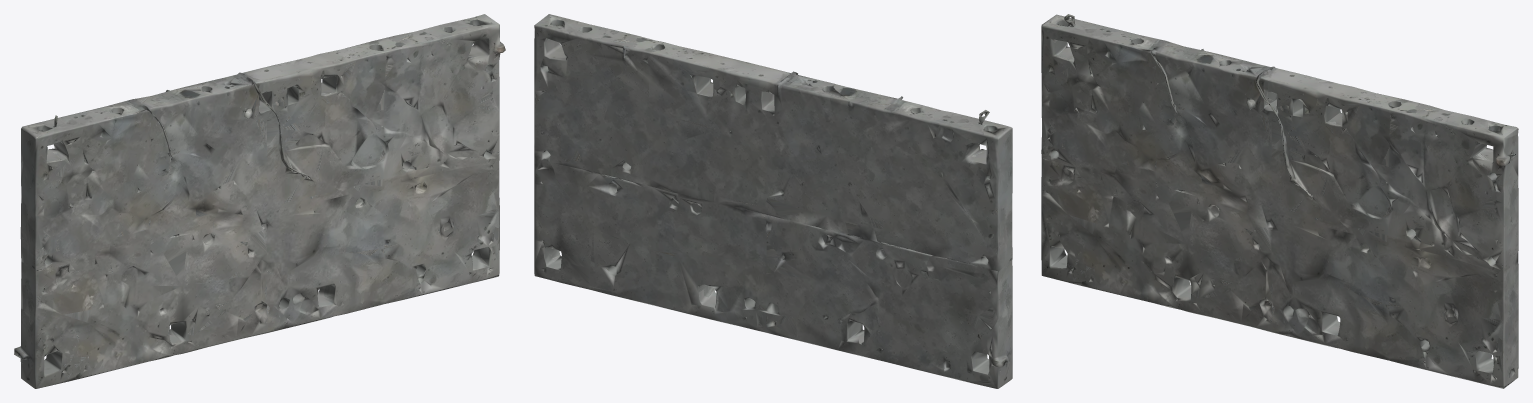
File: wall_panel.glb
3 renders of one model, left to right at view 1: azimuth 30°, elevation 25°; view 2: azimuth 150°, elevation 25°; view 3: azimuth 330°, elevation 25°, orthographic.
Parts seen in each view (by area): view 1: tripo_node_ad78acce-5d35-4573-ba16-d4d2888c2784; view 2: tripo_node_ad78acce-5d35-4573-ba16-d4d2888c2784; view 3: tripo_node_ad78acce-5d35-4573-ba16-d4d2888c2784.
Boxes of the visible parts, box(x1,y1,x2,y2) form: tripo_node_ad78acce-5d35-4573-ba16-d4d2888c2784: box(14, 14, 505, 388); tripo_node_ad78acce-5d35-4573-ba16-d4d2888c2784: box(534, 14, 1012, 388); tripo_node_ad78acce-5d35-4573-ba16-d4d2888c2784: box(1041, 14, 1518, 388).
Bounding box in the file's own units: 0.9926 × 0.5336 × 0.0796.
Materials: 1 (1 with a texture image).
